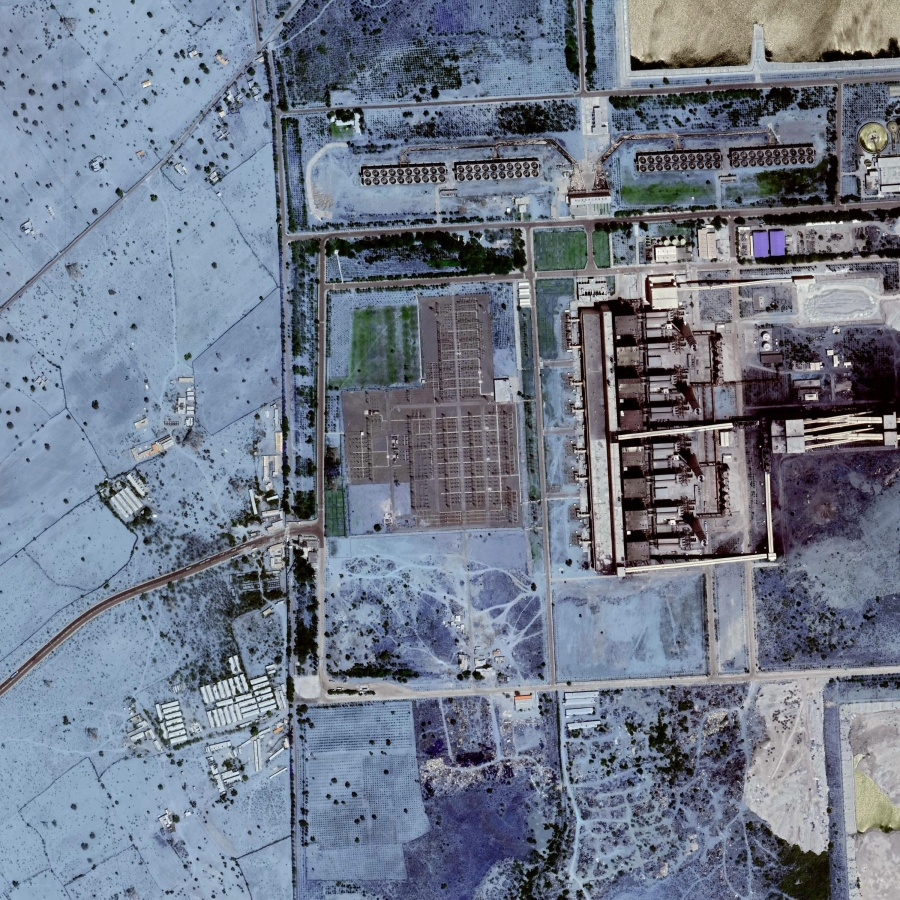PowerPlant: (573, 279, 772, 564)
